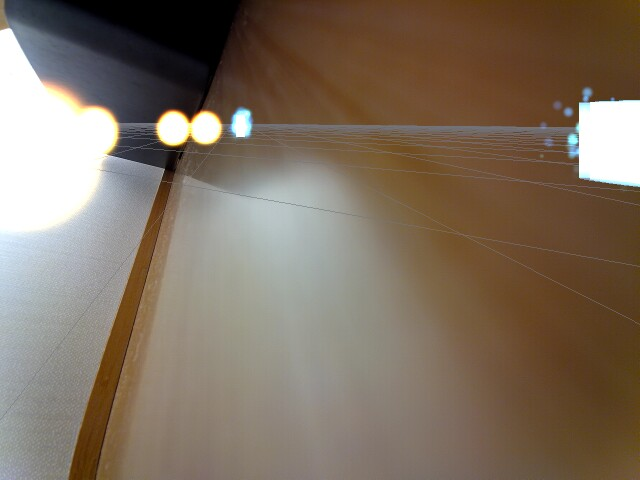fire: (0, 76, 122, 238), (156, 108, 191, 146), (191, 111, 224, 147)
